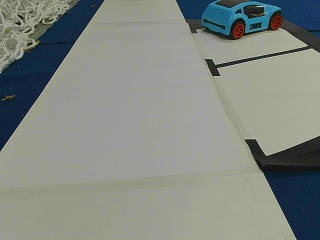car: (202, 2, 281, 38)
